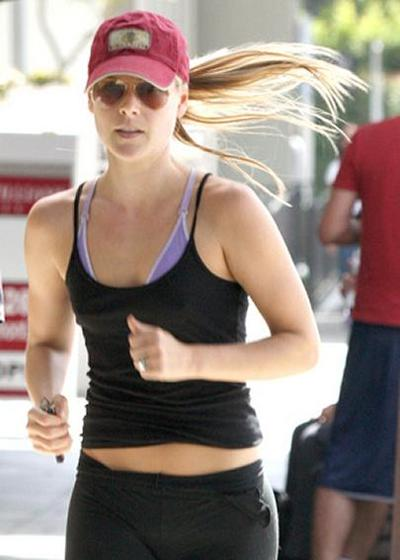person: (24, 11, 324, 560)
